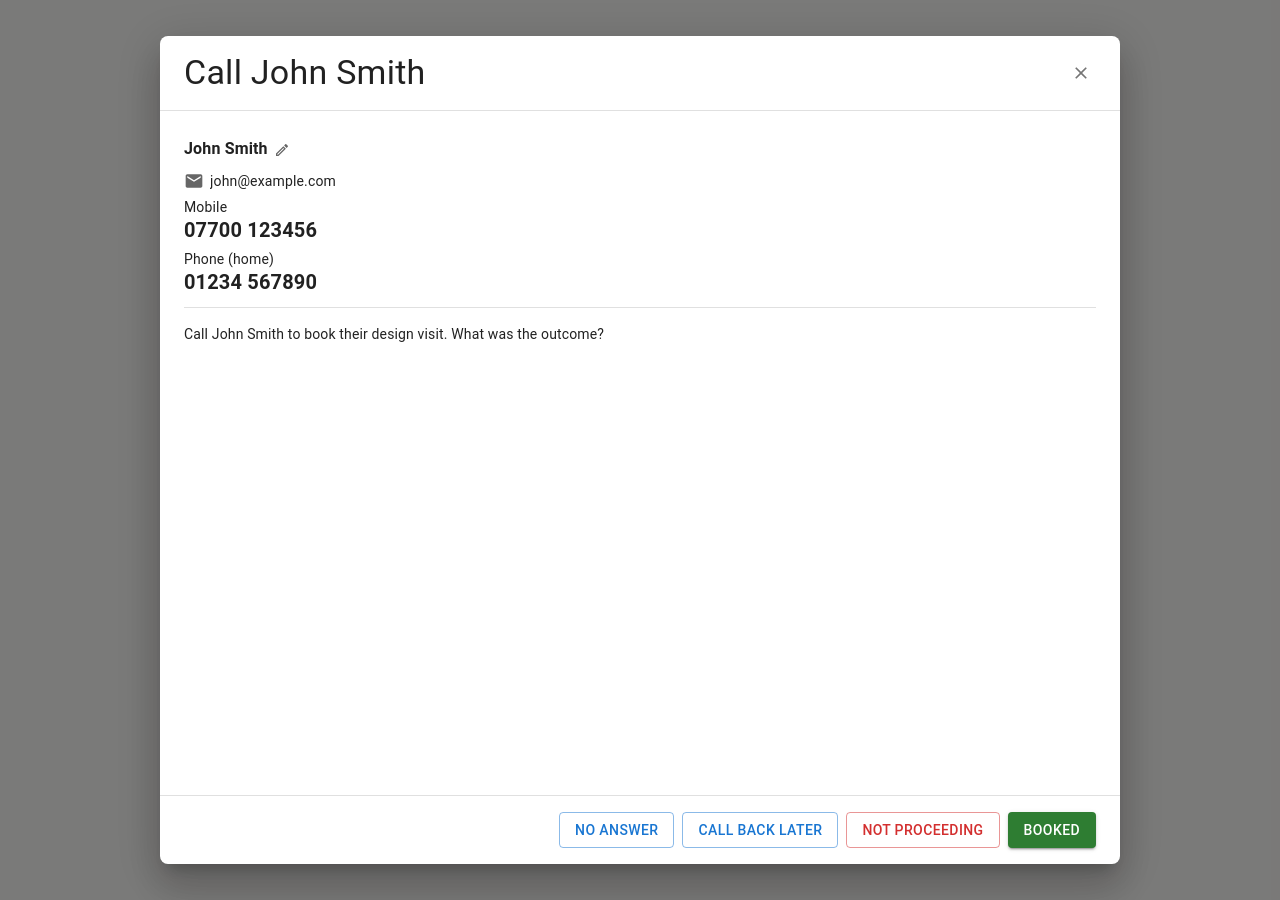
ArrangeVisitModal — discard guard: isLocked suppresses prompt › populates the email body from the local fallback when the pre-fetch fails and No answer is clicked
Click the button with test id "av-outcome-no-answer" at (617, 830), box x1=559 y1=812 x2=674 y2=848
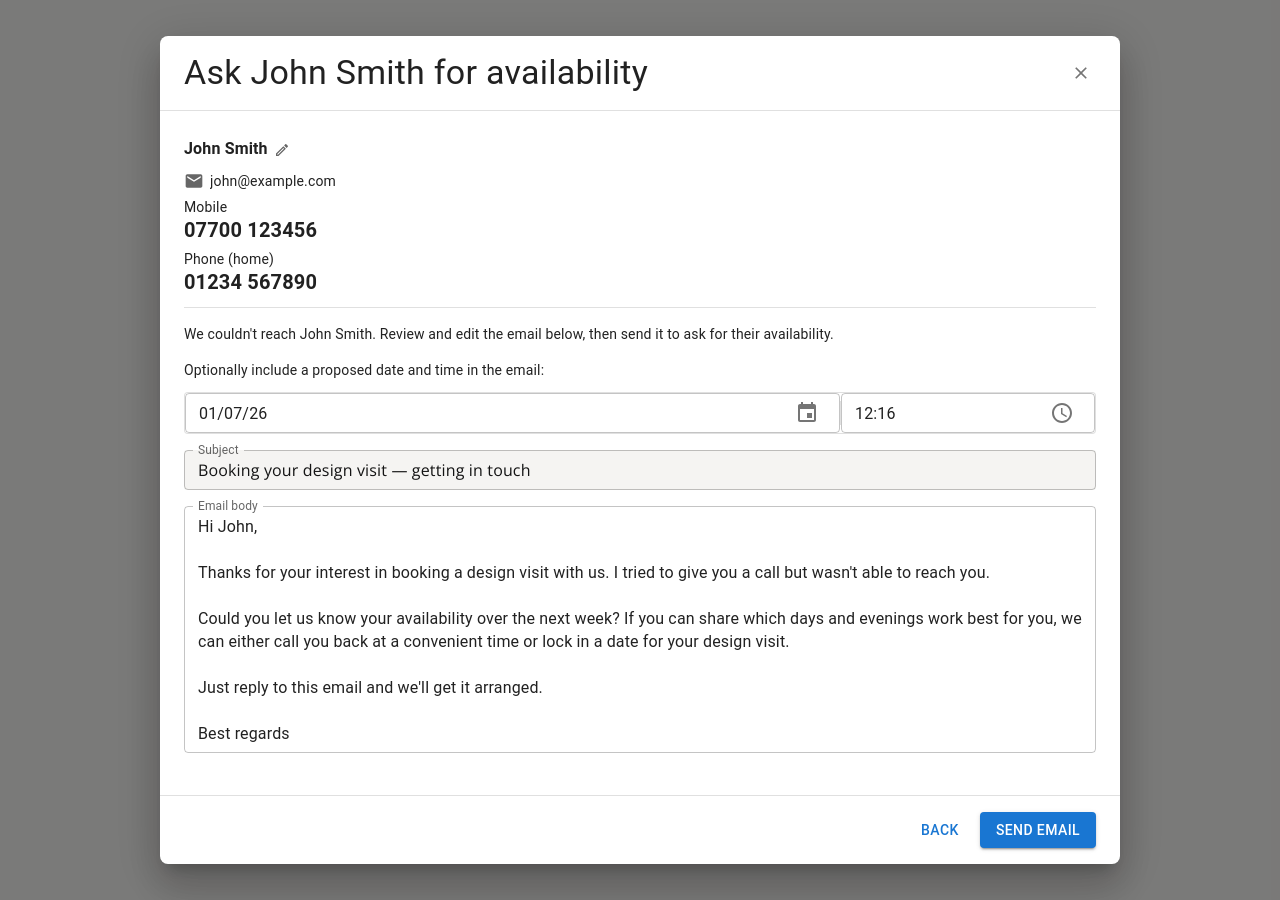
Now the text box labelled "Email body" is not empty, box x1=198 y1=515 x2=1082 y2=745
